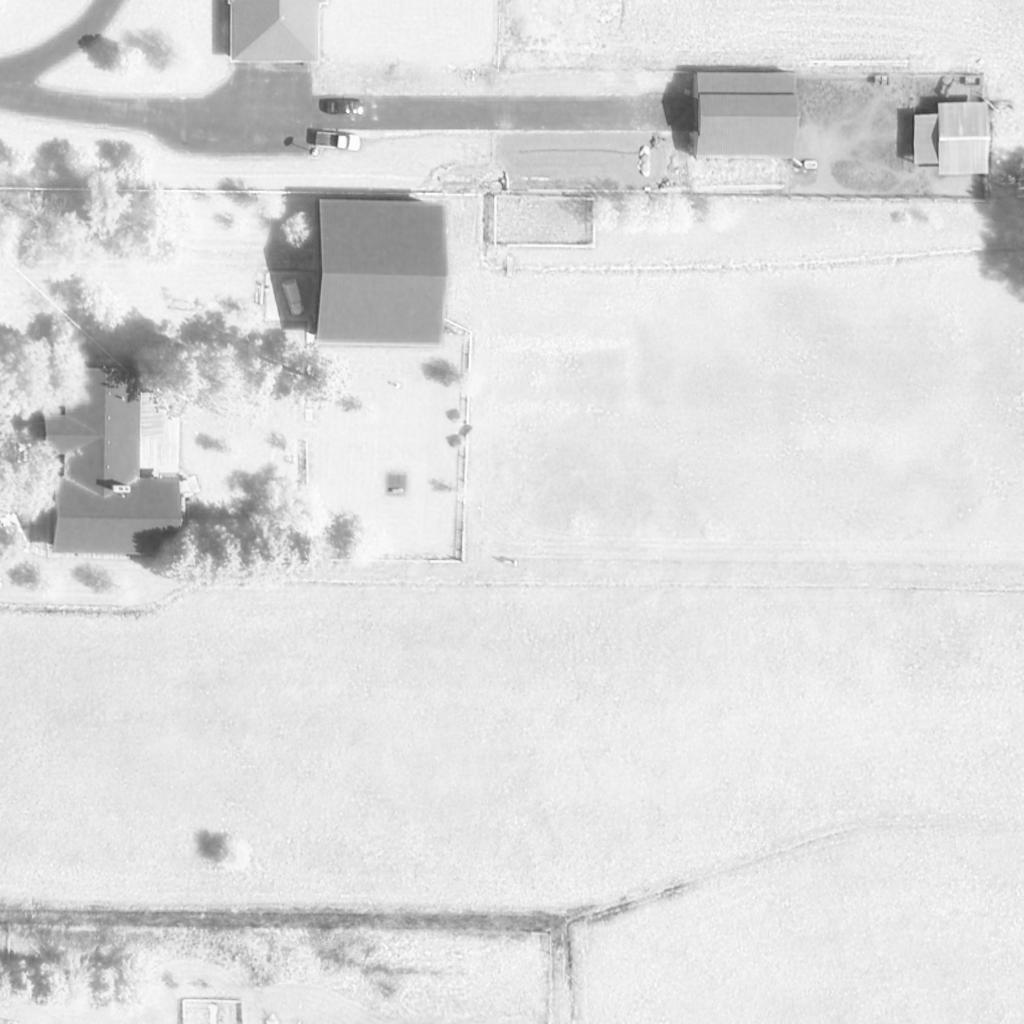vehicle: (316, 129, 364, 151), (282, 279, 308, 317), (325, 98, 365, 114)
